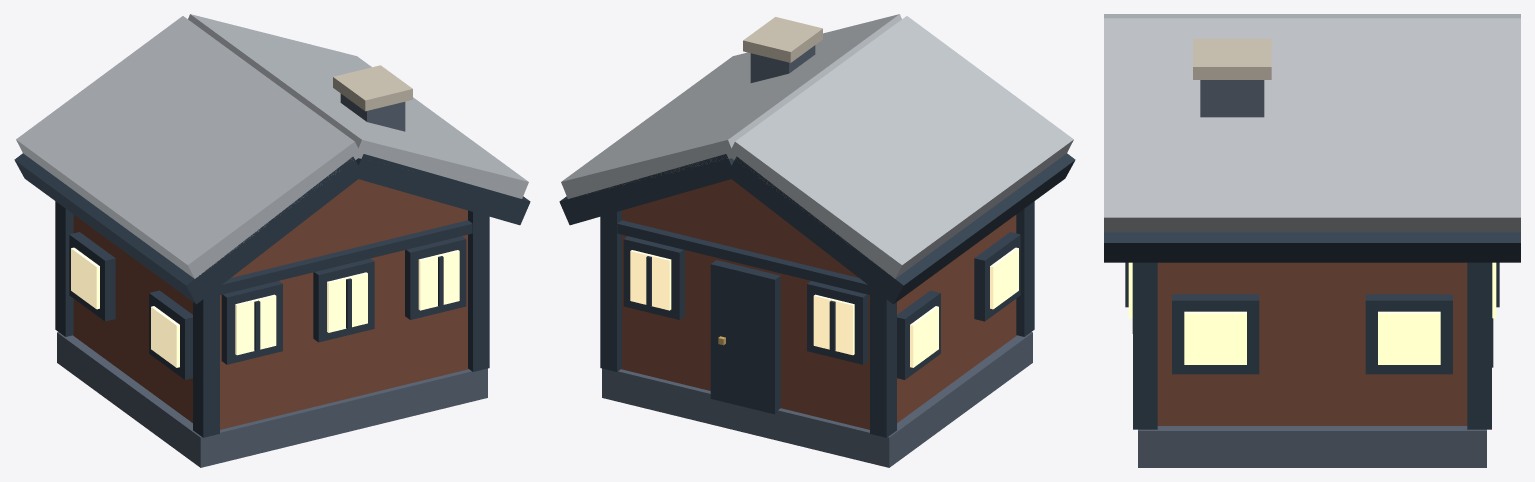
Rendered from supply-shed.glb.
3 views of the same model, side by side, from view 1: azimuth 30°, elevation 25°; view 2: azimuth 150°, elevation 25°; view 3: azimuth 270°, elevation 25° (orthographic). The views are drawn at different scales.
Parts seen in each view (by area): view 1: supply-shed; view 2: supply-shed; view 3: supply-shed.
Boxes of the visible parts, <box> form: supply-shed: <box>14,14,530,467</box>; supply-shed: <box>559,14,1075,467</box>; supply-shed: <box>1104,14,1520,467</box>.
Size of the model in its own units: 3.32 by 2.81 by 2.87.
